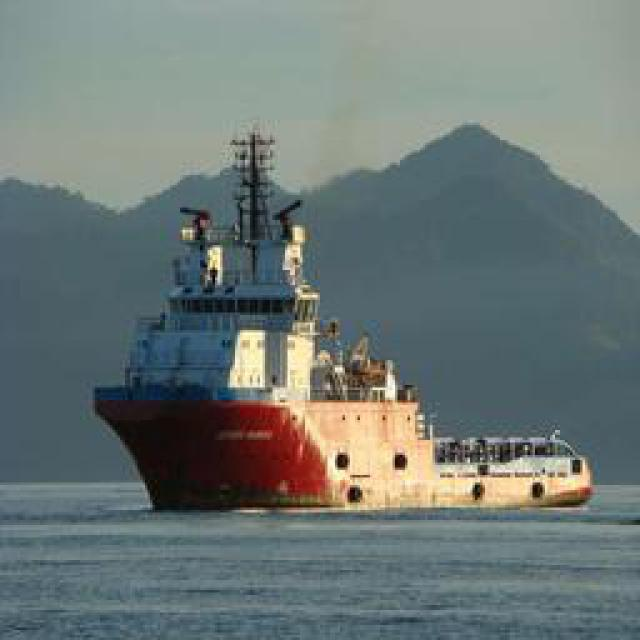Ship: (96, 121, 604, 523)
